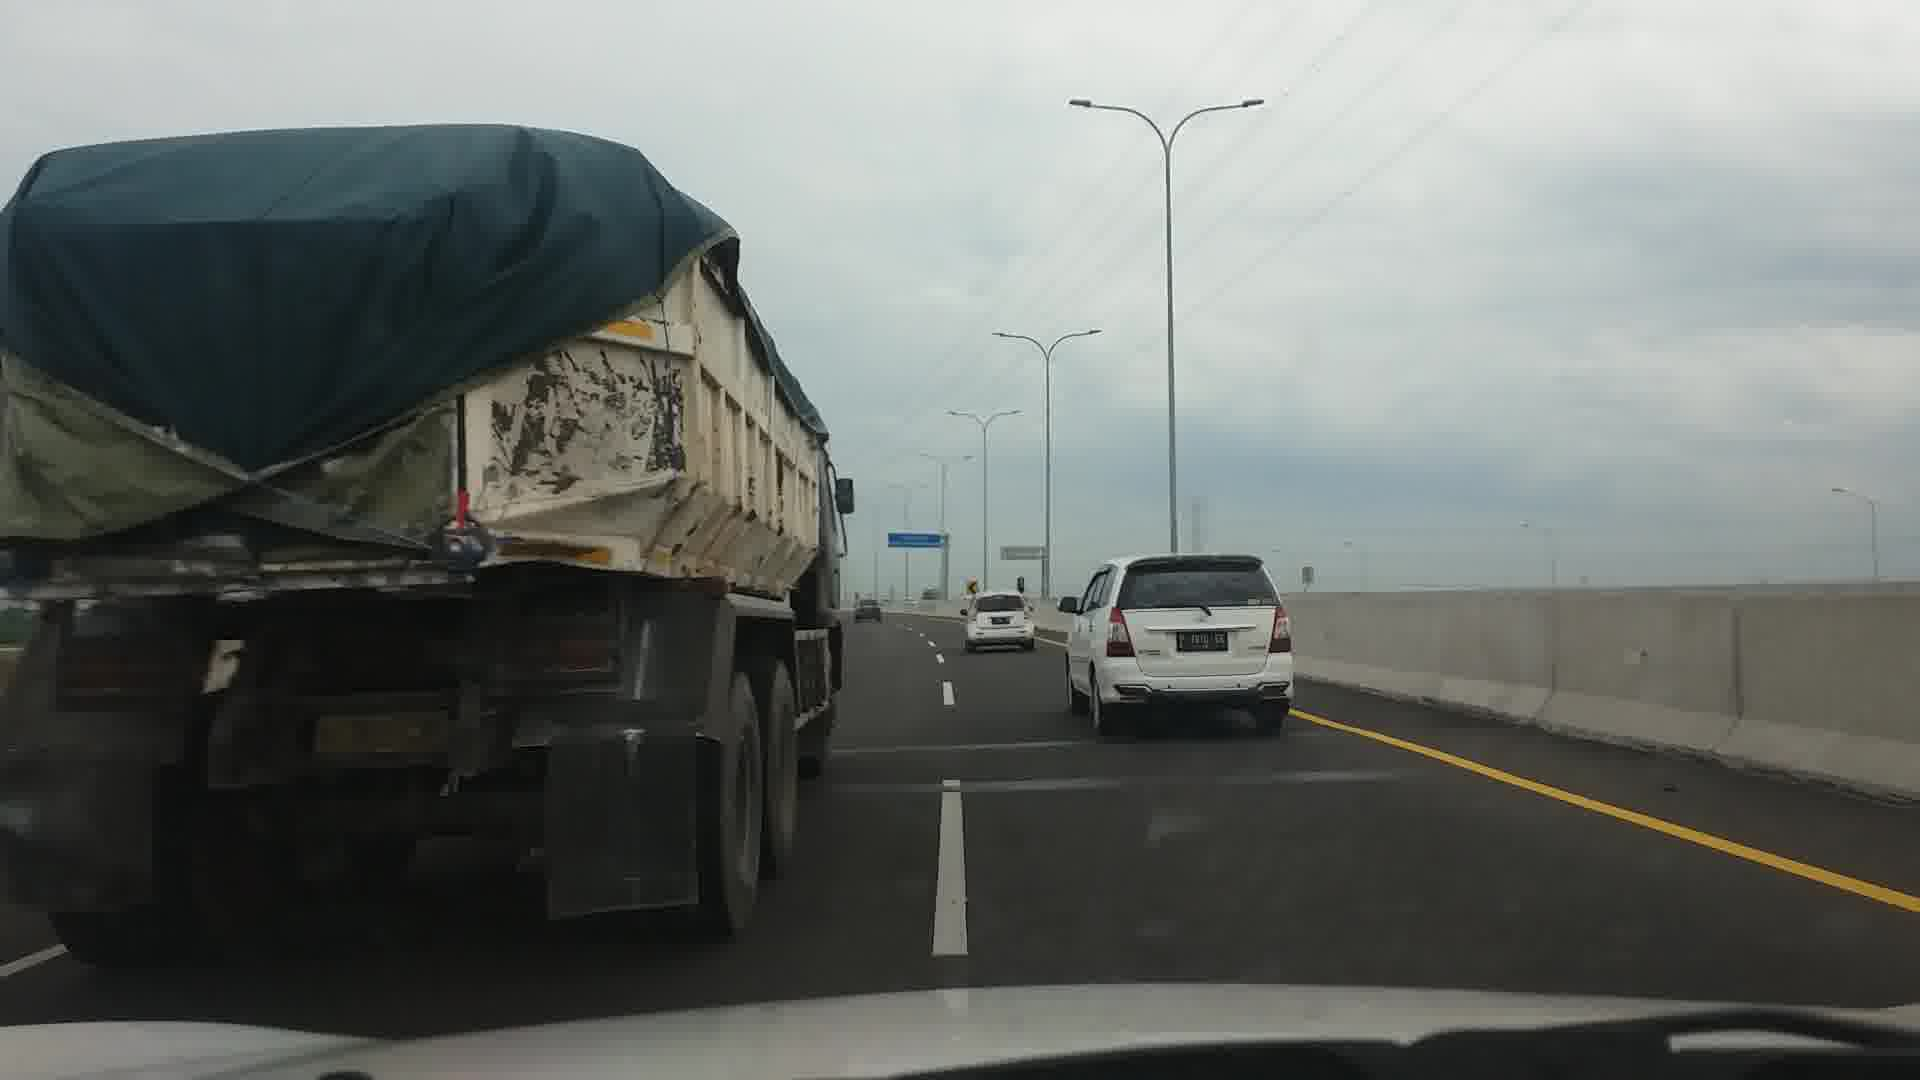plate_positive: (1176, 632, 1228, 651), (992, 617, 1010, 624)
